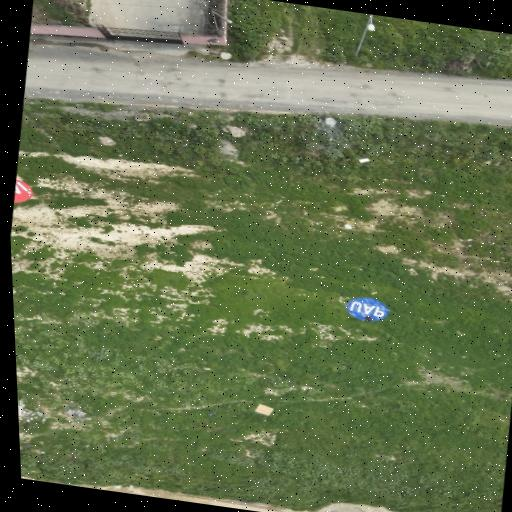person: (363, 315, 373, 321)
uai: (14, 179, 33, 202)
uap: (347, 297, 389, 321)
